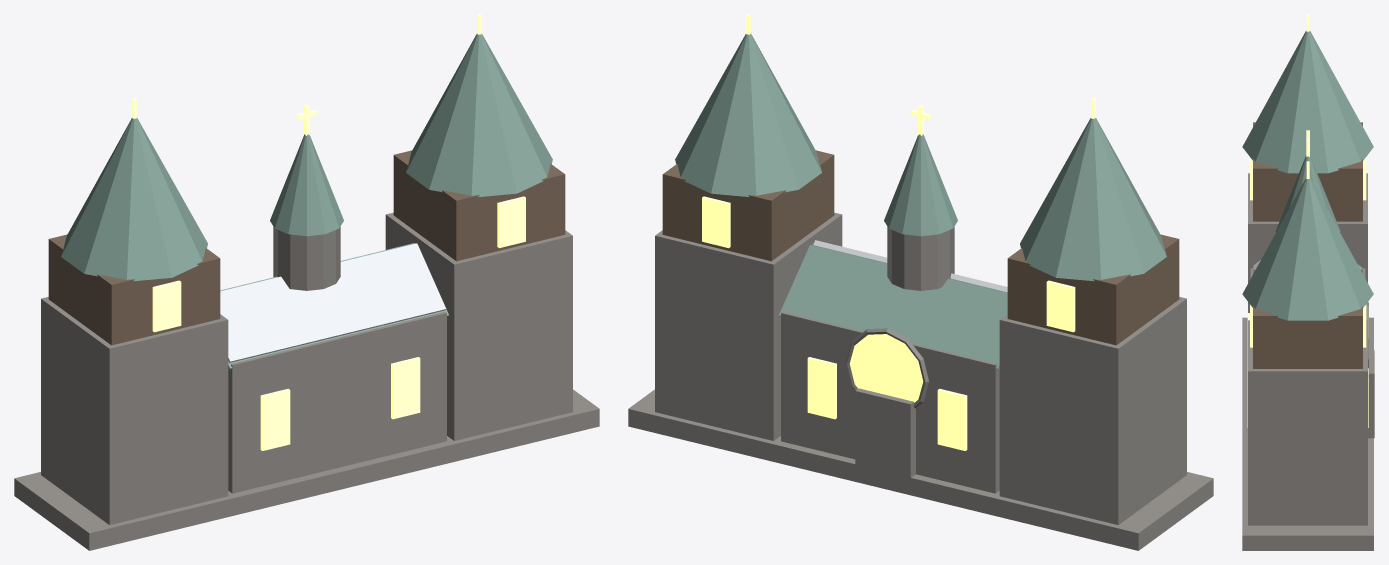
File: temple.glb
3 views of the same model, side by side, from view 1: azimuth 30°, elevation 25°; view 2: azimuth 150°, elevation 25°; view 3: azimuth 270°, elevation 25° (orthographic). The views are drawn at different scales.
Visible parts, largest first — view 1: temple_Building; view 2: temple_Building; view 3: temple_Building.
Part boxes in pixels (x1=…): temple_Building: x1=14, y1=14, x2=599, y2=550; temple_Building: x1=628, y1=14, x2=1213, y2=550; temple_Building: x1=1242, y1=14, x2=1374, y2=550.
Size of the model in its own units: 6.66 by 5.04 by 1.71.
